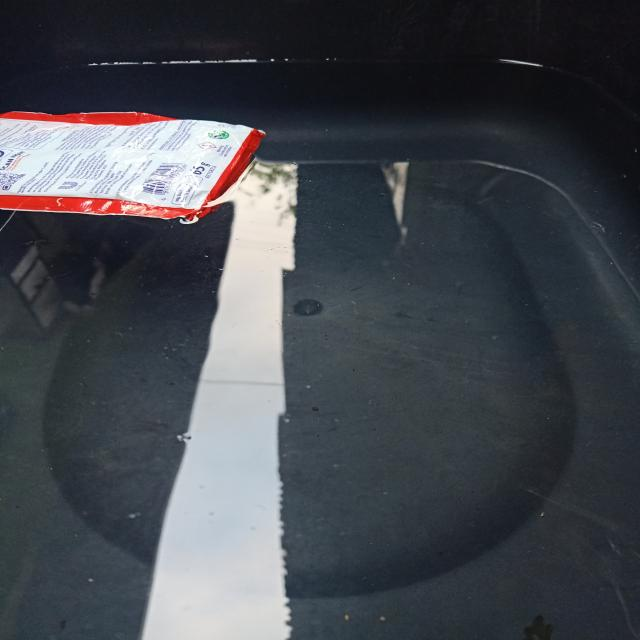Plastic Wrapper: (0, 90, 303, 233)
